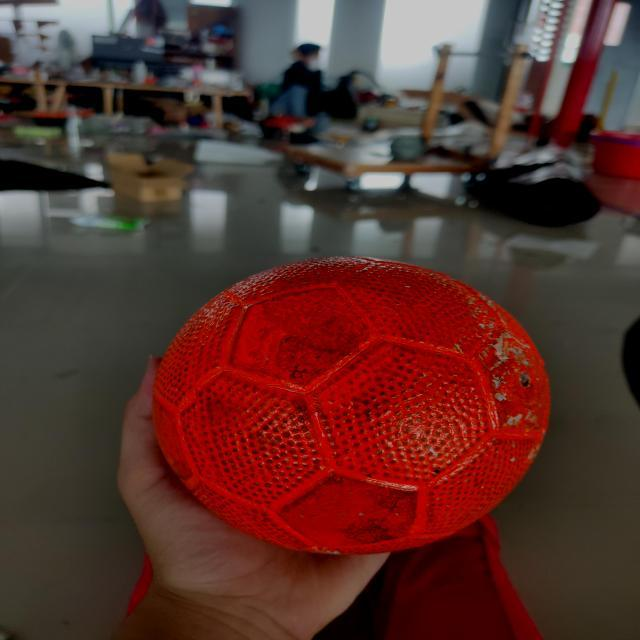bola: (154, 252, 556, 558)
